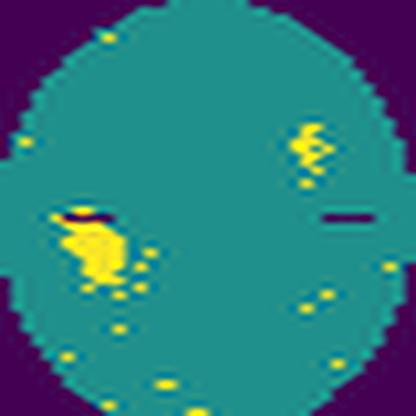Loc: (47, 209, 128, 294), (286, 118, 338, 194)
